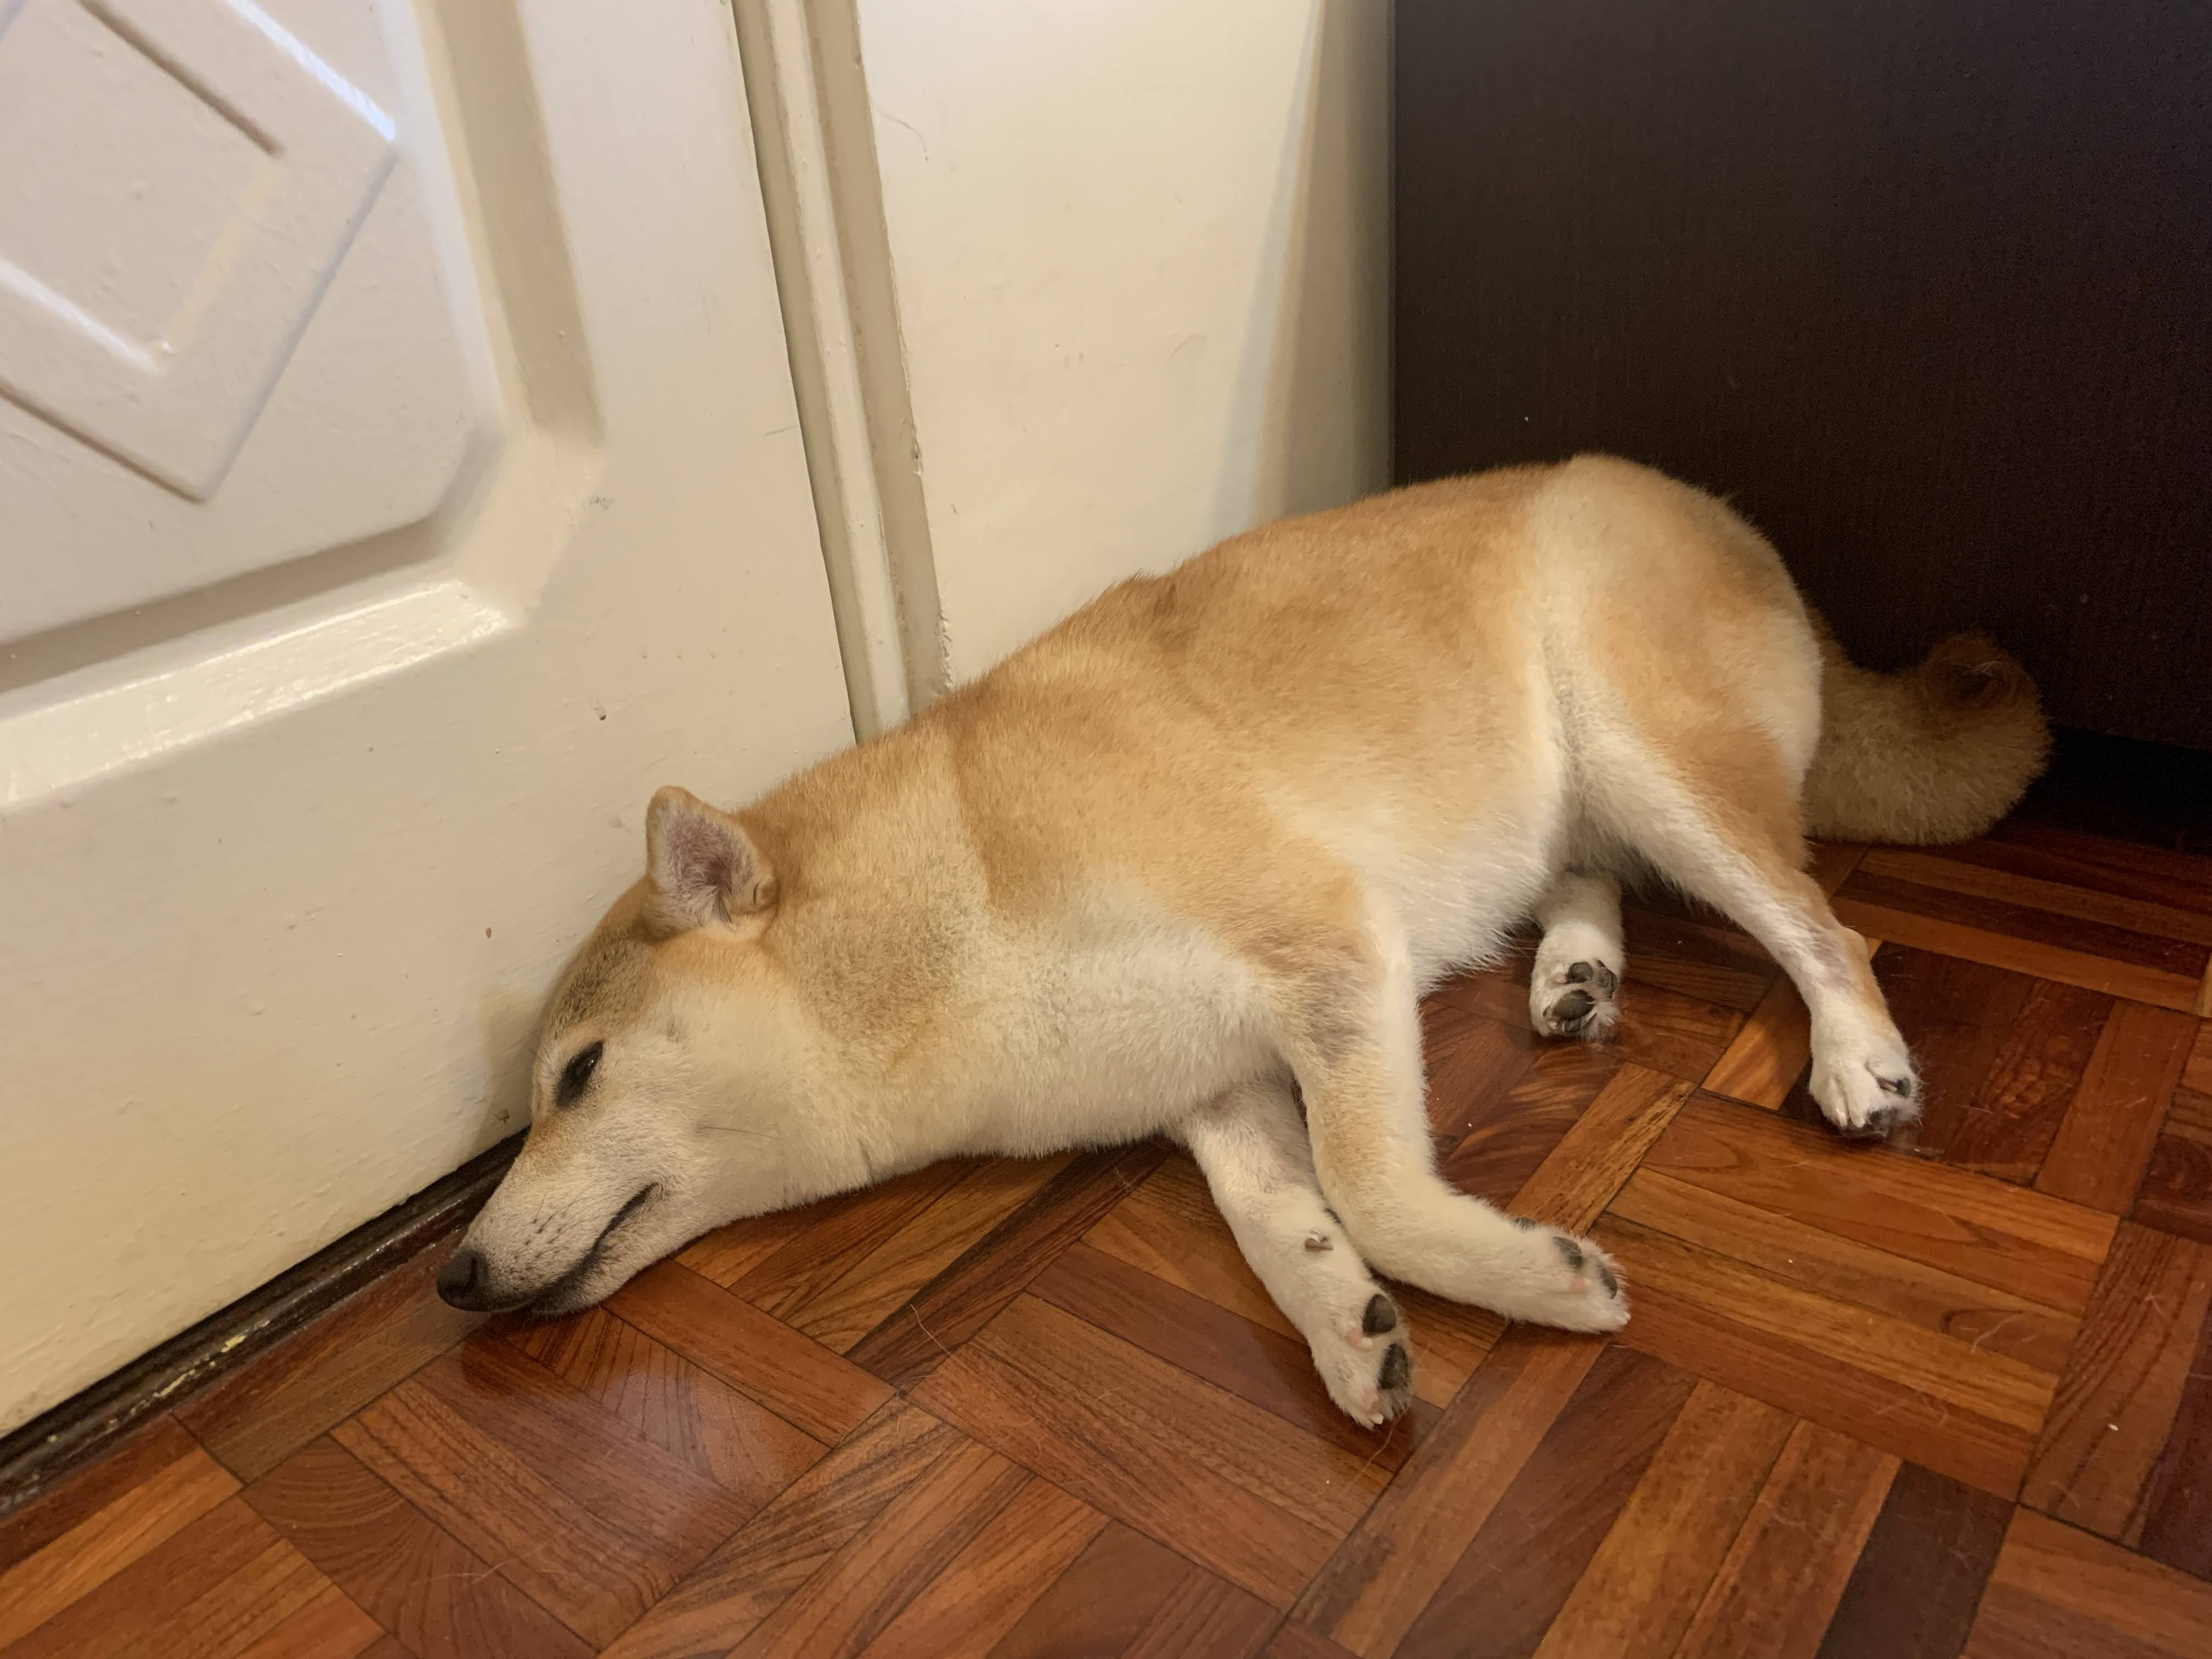Get down: (446, 444, 2047, 1452)
